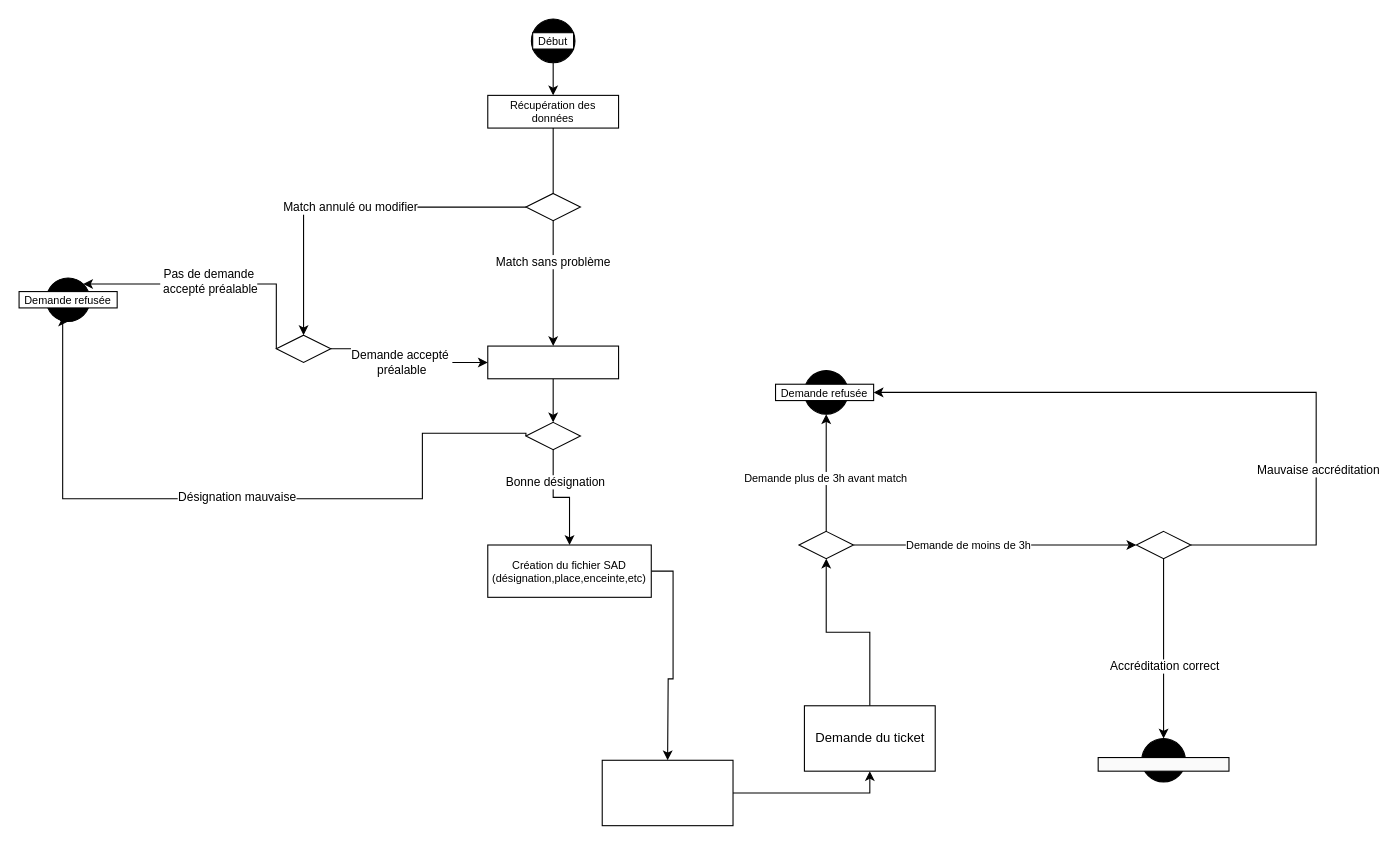
The diagram is 1398 pixels wide and 845 high, and some of its shapes have lost their labels. Here are the shapes that lost their labels. From the top down, the centre of each, then its label:
At point 553,362: "Assignation de la place par les organisateurs".
At point 1163,763: "Demande accepté".
At point 667,792: "Impression du ticket par le back-office".
